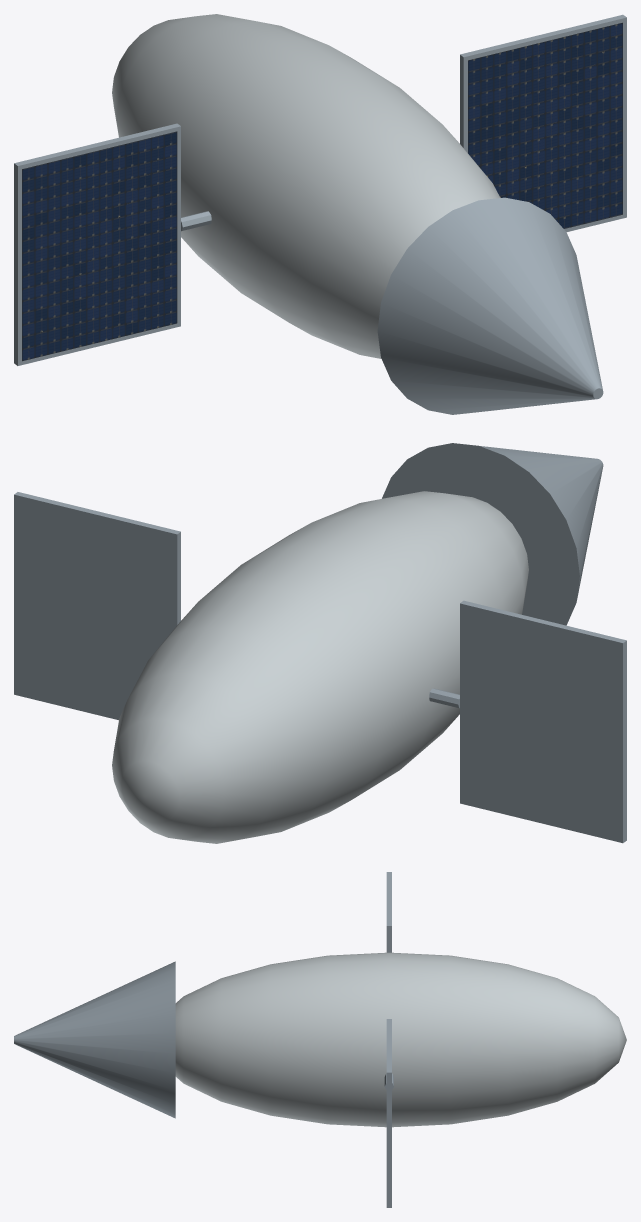
Rendered from ref-bion-m-65265.glb.
3 views of the same model, one above another, from view 1: azimuth 30°, elevation 25°; view 2: azimuth 150°, elevation 25°; view 3: azimuth 270°, elevation 25° (orthographic). The views are drawn at different scales.
Visible parts, largest first — view 1: Spacecraft body, Photovoltaic laminates (×2), Conical section, Array frame (×2); view 2: Spacecraft body, Array frame (×2), Conical section; view 3: Spacecraft body, Conical section, Array frame (×2).
Part boxes in pixels (x1,y1,x2,y2): Spacecraft body: (112, 14, 500, 358); Photovoltaic laminates (×2): (22, 22, 622, 361); Conical section: (377, 197, 603, 414); Array frame (×2): (14, 14, 626, 365); Spacecraft body: (112, 491, 528, 843); Array frame (×2): (14, 492, 626, 843); Conical section: (382, 443, 603, 625); Spacecraft body: (175, 952, 626, 1127); Conical section: (14, 961, 175, 1118); Array frame (×2): (386, 872, 391, 1207).
Size of the model in its own units: 6.5 by 2.4 by 8.38.
Materials: 3 (1 with a texture image).
